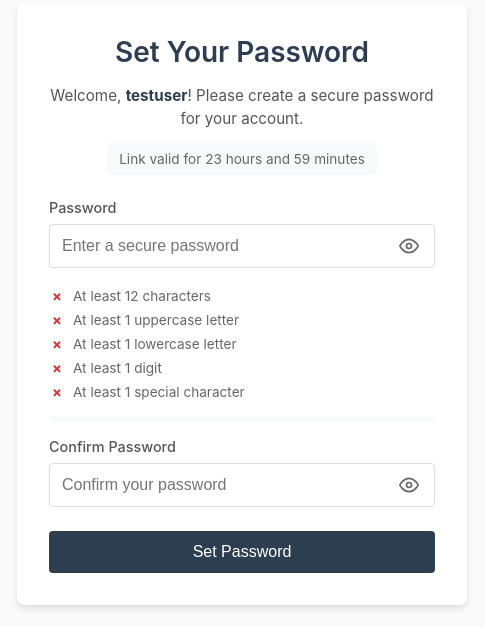
Test case: SetPasswordPage › Password set flow › shows loading state while setting password
The image size is (485, 627).
In the password field labelled "Password": (242, 246) [49,224,435,268], type "ValidPass123!"
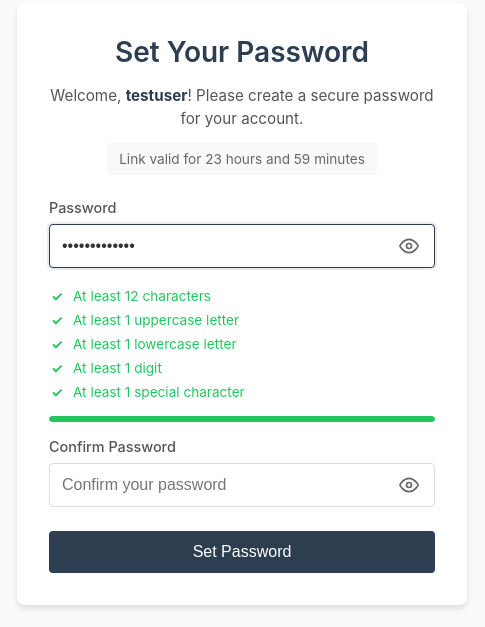
In the password field labelled "Confirm Password": (242, 485) [49,463,435,507], type "ValidPass123!"
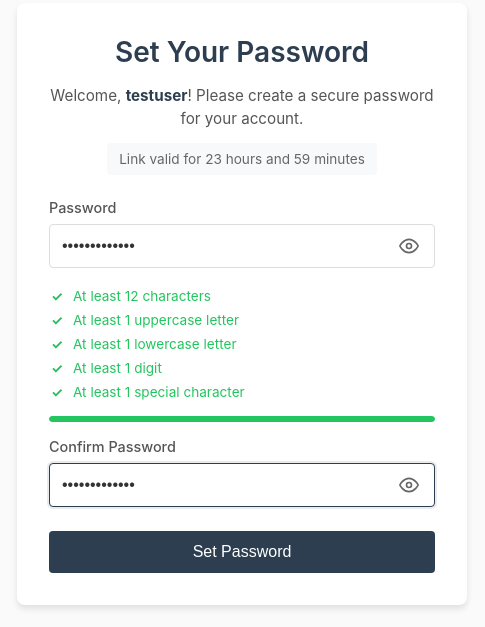
Click the button "Set Password": click(242, 552) [49,531,435,573]
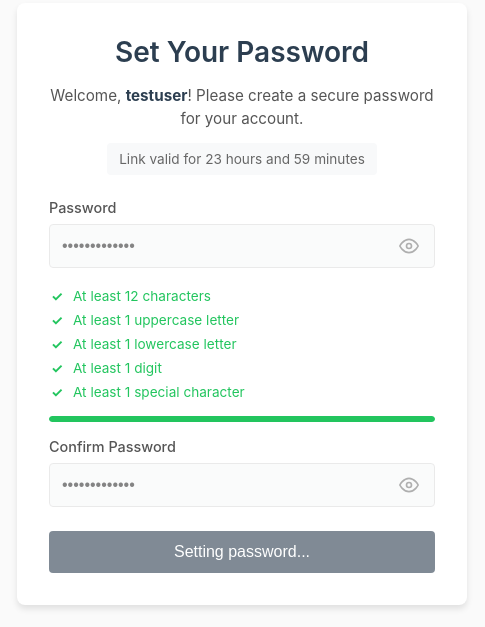
Expected: the button "Setting password..." is shown, [49,531,435,573]
